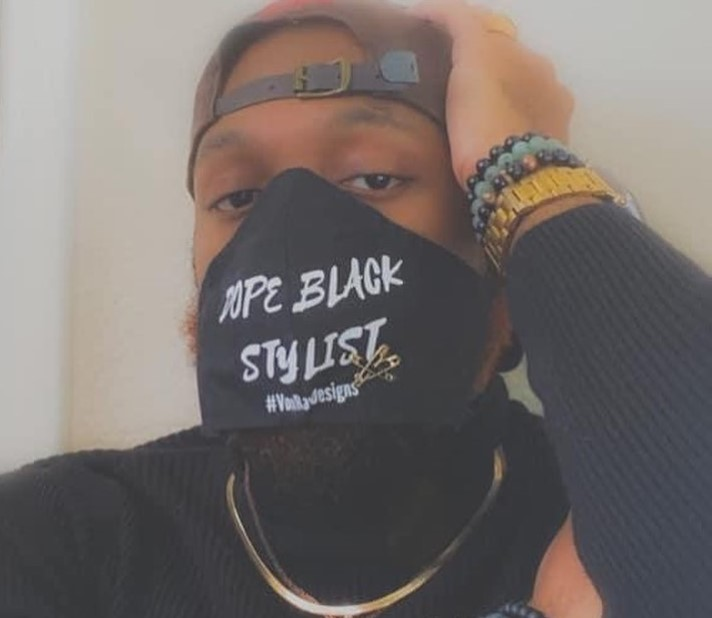face_with_mask: (169, 0, 534, 504)
